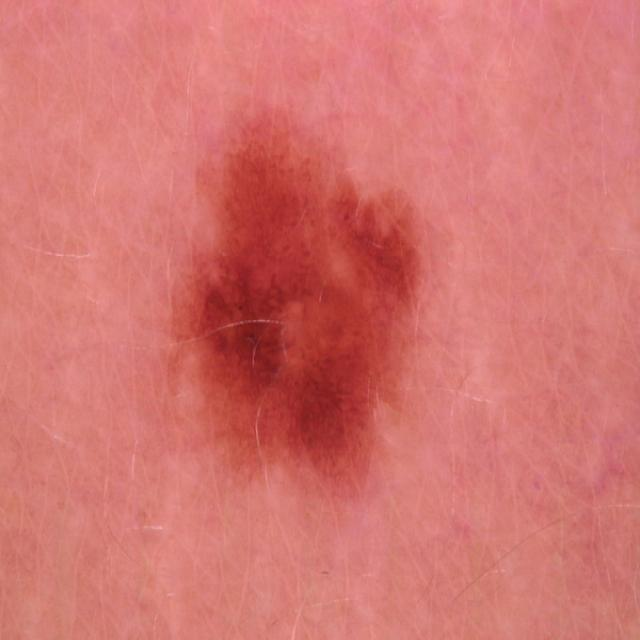NV: (164, 102, 426, 502)
